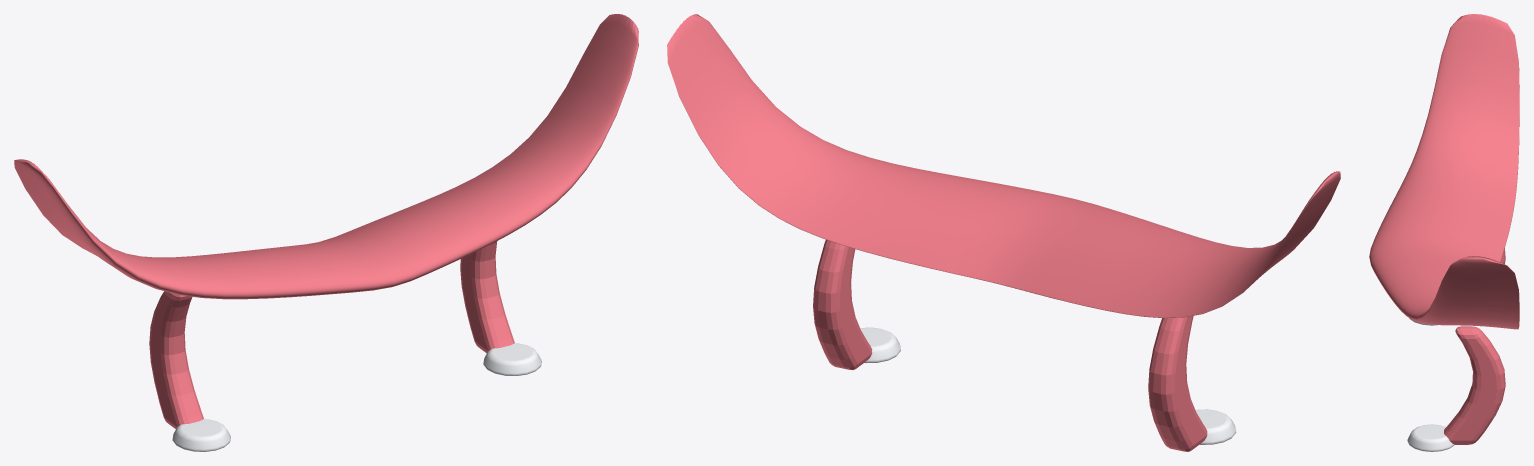
File: spoiler-yarasa.glb
3 renders of one model, left to right at view 1: azimuth 30°, elevation 25°; view 2: azimuth 150°, elevation 25°; view 3: azimuth 270°, elevation 25°, orthographic. The views are drawn at different scales.
Visible parts, largest first — view 1: wing, post-1, post1, pad-1, pad1; view 2: wing, post-1, post1, pad-1, pad1; view 3: wing, post1, pad1.
Part boxes in pixels (x1,y1,x2,y2): wing: (14, 14, 638, 299); post-1: (149, 291, 203, 428); post1: (460, 241, 514, 353); pad-1: (172, 419, 230, 451); pad1: (483, 343, 541, 375); wing: (667, 14, 1340, 318); post-1: (1148, 315, 1207, 451); post1: (813, 239, 872, 369); pad-1: (1195, 409, 1236, 444); pad1: (860, 327, 900, 363); wing: (1369, 14, 1519, 329); post1: (1444, 326, 1505, 444); pad1: (1407, 424, 1454, 451).
Bounding box in the file's own units: 1 × 0.4683 × 0.2617.
